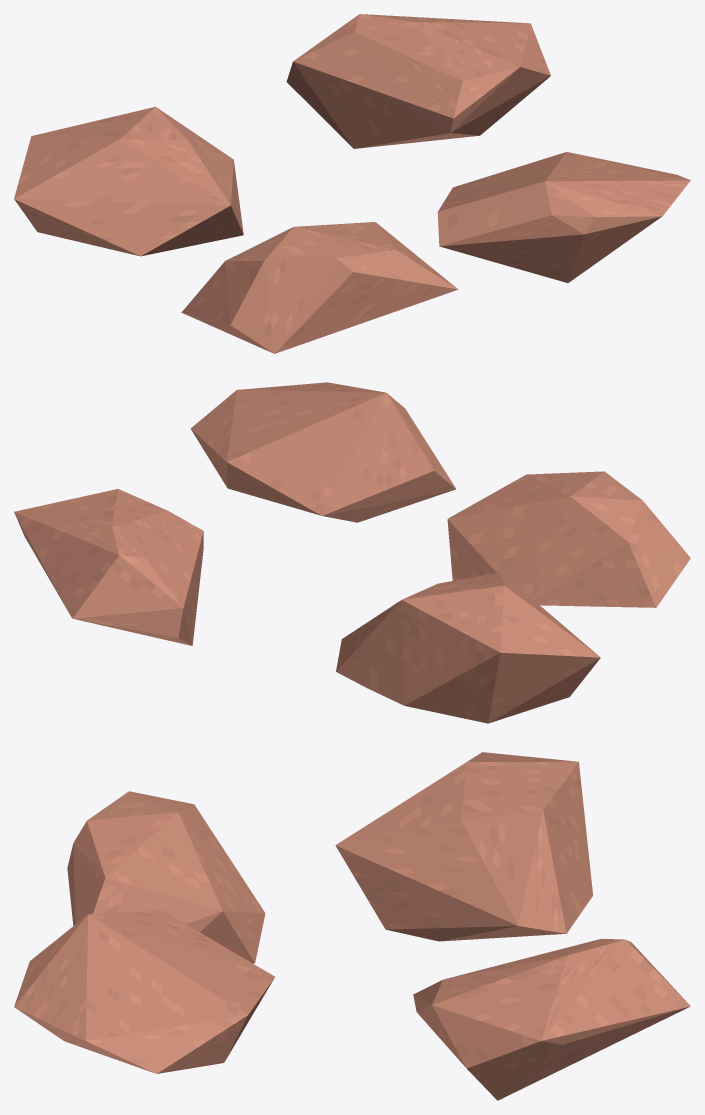
Rendered from dry_lobster.glb.
3 renders of one model, top to bottom at view 1: azimuth 30°, elevation 25°; view 2: azimuth 150°, elevation 25°; view 3: azimuth 270°, elevation 25°, orthographic. The views are drawn at different scales.
Parts seen in each view (by area): view 1: block_dry piece (×4); view 2: block_dry piece (×4); view 3: block_dry piece (×4).
Boxes of the visible parts, x1=… form: block_dry piece (×4): x1=14, y1=14, x2=690, y2=353; block_dry piece (×4): x1=14, y1=382, x2=690, y2=723; block_dry piece (×4): x1=14, y1=752, x2=690, y2=1100.
Bounding box in the file's own units: 0.094 × 0.0175 × 0.0839.
Materials: 1 (1 with a texture image).
